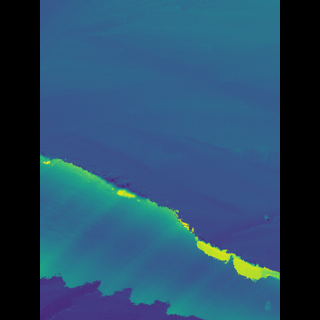Loch: (72, 143, 249, 319)
